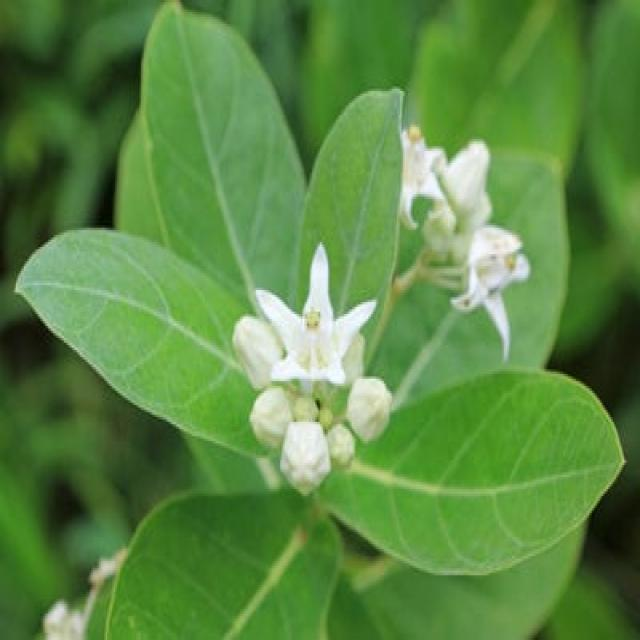Poisonous-Calatropis: (211, 86, 528, 640)
